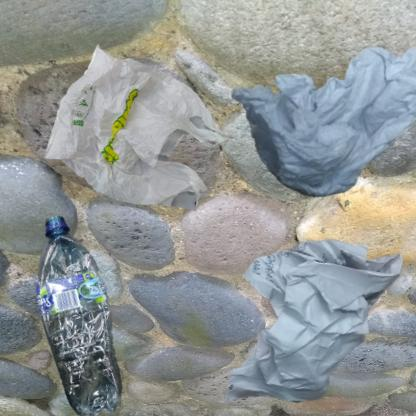bolsa: (10, 10, 271, 278)
botella: (10, 213, 166, 416)
papel: (213, 10, 416, 224), (213, 213, 416, 416)
